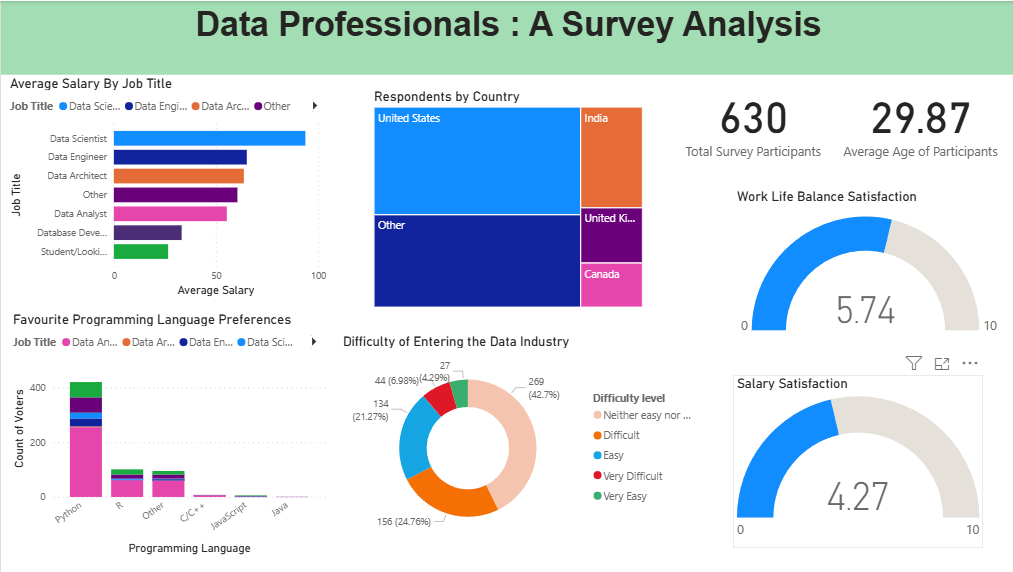

What the dashboard file says about the page in this screenshot:
{"tool":"powerbi","page":{"name":"Page 1","canvas":[1280,720],"ordinal":0},"visuals":[{"type":"textbox","box":[0,0,1280,92.9],"z":0},{"type":"card","fields":{"Values":["Count(Data Professional Survey.Unique ID)"]},"box":[844.3,92.9,210,115.7],"z":1000},{"type":"card","fields":{"Values":["Avg(Data Professional Survey.Q10 - Current Age)"]},"box":[1052.9,92.9,212.9,115.7],"z":2000},{"type":"barChart","title":"Average Salary By Job Title","fields":{"Category":["Data Professional Survey.Q1 - Which Title Best Fits your Current Role?.1"],"Y":["Avg(Data Professional Survey.Average Salary)"],"Series":["Data Professional Survey.Q1 - Which Title Best Fits your Current Role?.1"]},"box":[5.7,92.9,408.6,284.3],"z":3000},{"type":"columnChart","title":"Favourite Programming Language Preferences","fields":{"Category":["Data Professional Survey.Q5 - Favorite Programming Language.1"],"Y":["CountNonNull(Data Professional Survey.Unique ID)"],"Series":["Data Professional Survey.Q1 - Which Title Best Fits your Current Role?.1"]},"box":[10,391.4,404.3,312.9],"z":4000},{"type":"treemap","title":"Respondents by Country","fields":{"Group":["Data Professional Survey.Q11 - Which Country do you live in?.1"],"Values":["CountNonNull(Data Professional Survey.Q1 - Which Title Best Fits your Current Role?.1)"]},"box":[465.7,110,348.6,281.4],"z":5000},{"type":"gauge","title":" Work Life Balance Satisfaction","fields":{"Y":["Avg(Data Professional Survey.Q6 - How Happy are you in your Current Position with the following? (Work/Life Balance))"],"MinValue":["Min(Data Professional Survey.Q6 - How Happy are you in your Current Position with the following? (Work/Life Balance))"],"MaxValue":["Max(Data Professional Survey.Q6 - How Happy are you in your Current Position with the following? (Work/Life Balance))1"]},"box":[922.9,235.7,342.9,201.4],"z":6000},{"type":"gauge","title":"Salary Satisfaction ","fields":{"Y":["Avg(Data Professional Survey.Q6 - How Happy are you in your Current Position with the following? (Salary))"],"MinValue":["Min(Data Professional Survey.Q6 - How Happy are you in your Current Position with the following? (Salary))"],"MaxValue":["Max(Data Professional Survey.Q6 - How Happy are you in your Current Position with the following? (Salary))"]},"box":[922.9,471.4,315.7,218.6],"z":7000},{"type":"donutChart","title":"Difficulty of Entering the Data Industry","fields":{"Category":["Data Professional Survey.Q7 - How difficult was it for you to break into Data?"],"Y":["CountNonNull(Data Professional Survey.Q7 - How difficult was it for you to break into Data?)"]},"box":[425.7,418.6,460,271.4],"z":8000}]}

Visuals, with their boxes in screenshot pixels (x1, y1, x2, y2), scaled from the page's 1280x720 canvas onto the 1013x572 screenshot:
textbox: [left=0, top=0, right=1012, bottom=74]
card - Count(Data Professional Survey.Unique ID): [left=668, top=74, right=834, bottom=166]
card - Avg(Data Professional Survey.Q10 - Current Age): [left=833, top=74, right=1002, bottom=166]
"Average Salary By Job Title" barChart: [left=5, top=74, right=328, bottom=300]
"Favourite Programming Language Preferences" columnChart: [left=8, top=311, right=328, bottom=560]
"Respondents by Country" treemap: [left=369, top=87, right=644, bottom=311]
" Work Life Balance Satisfaction" gauge: [left=730, top=187, right=1002, bottom=347]
"Salary Satisfaction " gauge: [left=730, top=375, right=980, bottom=548]
"Difficulty of Entering the Data Industry" donutChart: [left=337, top=333, right=701, bottom=548]
